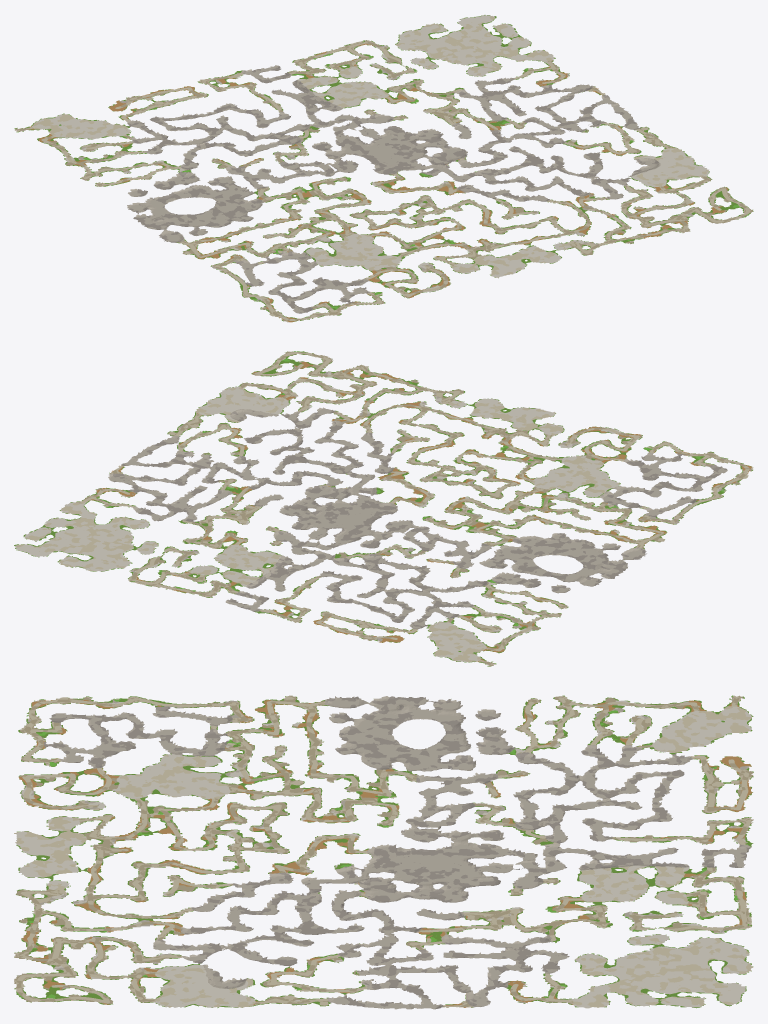
Rendered from Dungeon-2C-Ground.fbx.
3 renders of one model, top to bottom at view 1: azimuth 30°, elevation 25°; view 2: azimuth 150°, elevation 25°; view 3: azimuth 270°, elevation 25°, orthographic. The views are drawn at different scales.
Parts seen in each view (by area): view 1: Dungeon-2C-Ground-c44, Dungeon-2C-Ground-c46, Dungeon-2C-Ground-c14, Dungeon-2C-Ground-c21, Dungeon-2C-Ground-c76, Dungeon-2C-Ground-c77, Dungeon-2C-Ground-c22, Dungeon-2C-Ground-c67, Dungeon-2C-Ground-c72, Dungeon-2C-Ground-c07, Dungeon-2C-Ground-c71, Dungeon-2C-Ground-c35 (+52 smaller); view 2: Dungeon-2C-Ground-c44, Dungeon-2C-Ground-c46, Dungeon-2C-Ground-c14, Dungeon-2C-Ground-c21, Dungeon-2C-Ground-c76, Dungeon-2C-Ground-c77, Dungeon-2C-Ground-c67, Dungeon-2C-Ground-c22, Dungeon-2C-Ground-c72, Dungeon-2C-Ground-c07, Dungeon-2C-Ground-c35, Dungeon-2C-Ground-c03 (+52 smaller); view 3: Dungeon-2C-Ground-c44, Dungeon-2C-Ground-c46, Dungeon-2C-Ground-c21, Dungeon-2C-Ground-c76, Dungeon-2C-Ground-c77, Dungeon-2C-Ground-c14, Dungeon-2C-Ground-c67, Dungeon-2C-Ground-c22, Dungeon-2C-Ground-c07, Dungeon-2C-Ground-c72, Dungeon-2C-Ground-c35, Dungeon-2C-Ground-c71 (+52 smaller).
Boxes of the visible parts, bbox=[...] form: Dungeon-2C-Ground-c44: bbox=[353, 132, 449, 170]; Dungeon-2C-Ground-c46: bbox=[284, 78, 372, 116]; Dungeon-2C-Ground-c14: bbox=[176, 176, 266, 214]; Dungeon-2C-Ground-c21: bbox=[337, 236, 424, 275]; Dungeon-2C-Ground-c76: bbox=[466, 35, 555, 70]; Dungeon-2C-Ground-c77: bbox=[432, 15, 519, 48]; Dungeon-2C-Ground-c22: bbox=[303, 211, 395, 250]; Dungeon-2C-Ground-c67: bbox=[380, 24, 464, 61]; Dungeon-2C-Ground-c72: bbox=[606, 138, 695, 175]; Dungeon-2C-Ground-c07: bbox=[14, 113, 102, 147]; Dungeon-2C-Ground-c71: bbox=[640, 162, 728, 199]; Dungeon-2C-Ground-c35: bbox=[260, 119, 352, 158]; Dungeon-2C-Ground-c44: bbox=[295, 493, 385, 534]; Dungeon-2C-Ground-c46: bbox=[218, 549, 311, 586]; Dungeon-2C-Ground-c14: bbox=[473, 538, 568, 575]; Dungeon-2C-Ground-c21: bbox=[520, 447, 613, 485]; Dungeon-2C-Ground-c76: bbox=[42, 501, 126, 540]; Dungeon-2C-Ground-c77: bbox=[14, 527, 95, 564]; Dungeon-2C-Ground-c67: bbox=[62, 540, 153, 573]; Dungeon-2C-Ground-c22: bbox=[484, 471, 578, 511]; Dungeon-2C-Ground-c72: bbox=[184, 397, 271, 436]; Dungeon-2C-Ground-c07: bbox=[433, 630, 508, 666]; Dungeon-2C-Ground-c35: bbox=[315, 534, 411, 573]; Dungeon-2C-Ground-c03: bbox=[570, 529, 663, 567]; Dungeon-2C-Ground-c44: bbox=[383, 853, 478, 892]; Dungeon-2C-Ground-c46: bbox=[577, 852, 664, 891]; Dungeon-2C-Ground-c21: bbox=[103, 773, 198, 813]; Dungeon-2C-Ground-c76: bbox=[570, 969, 664, 1008]; Dungeon-2C-Ground-c77: bbox=[662, 969, 751, 1008]; Dungeon-2C-Ground-c14: bbox=[383, 734, 477, 773]; Dungeon-2C-Ground-c67: bbox=[662, 930, 753, 970]; Dungeon-2C-Ground-c22: bbox=[197, 773, 291, 812]; Dungeon-2C-Ground-c07: bbox=[662, 695, 753, 734]; Dungeon-2C-Ground-c72: bbox=[197, 969, 292, 1007]; Dungeon-2C-Ground-c35: bbox=[476, 812, 570, 853]; Dungeon-2C-Ground-c71: bbox=[103, 969, 198, 1007].
Size of the model in its own units: 131 by 0.3168 by 131.
